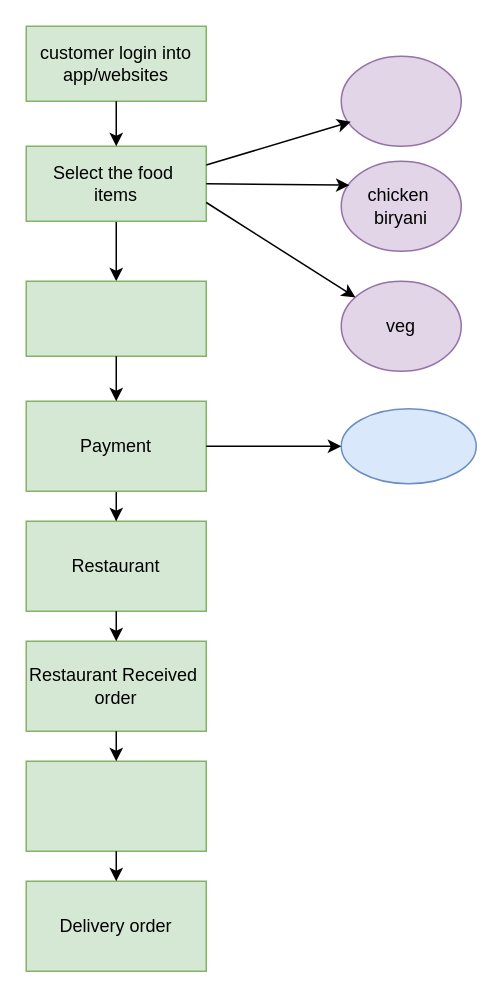
Image size: 503x998. Some labels were removed from this diagram. The centre of each missing label's shape, as x and y in pixels:
"Biryani" goes at point (400, 100).
"Confirm the order" goes at point (115, 318).
"Finalize the order" goes at point (115, 805).
"swiggy admin" goes at point (408, 445).
